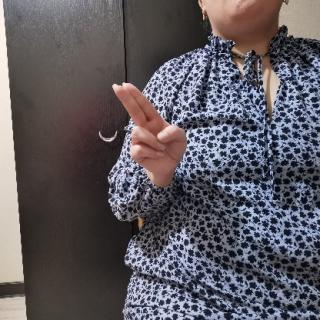TA: (110, 75, 192, 185)
